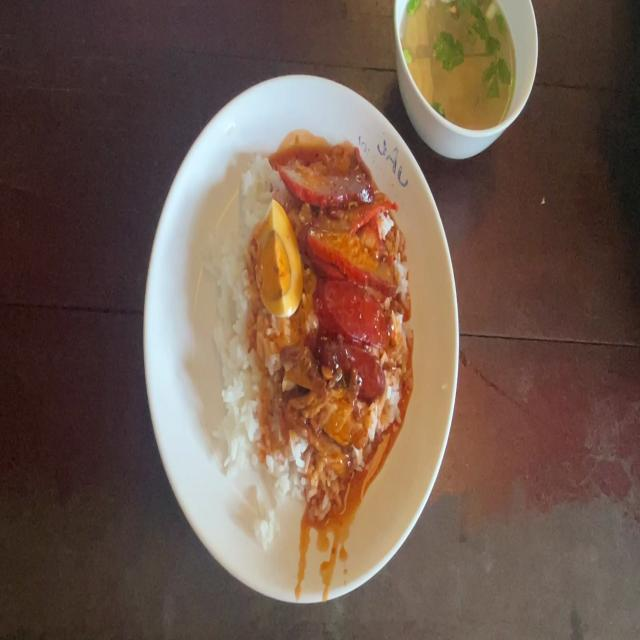red_pork_and_crispy_pork: (257, 206, 301, 312)
stir_fried_basil: (317, 284, 388, 386)
